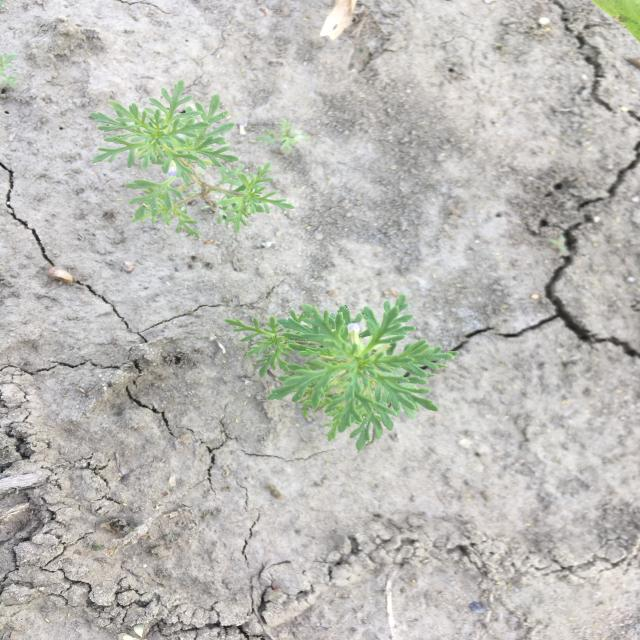Ragweed: (223, 295, 462, 453), (86, 79, 298, 240)
